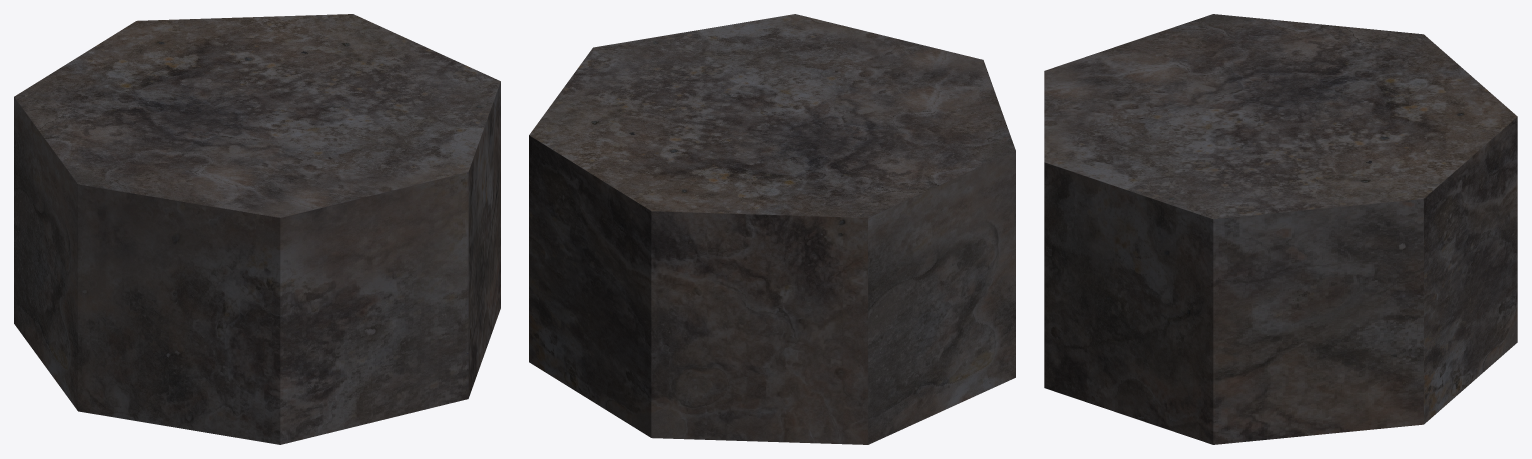
Rendered from rock2.glb.
3 renders of one model, left to right at view 1: azimuth 30°, elevation 25°; view 2: azimuth 150°, elevation 25°; view 3: azimuth 270°, elevation 25°, orthographic.
Parts seen in each view (by area): view 1: Cylinder; view 2: Cylinder; view 3: Cylinder.
Part boxes in pixels (bbox=[...]): Cylinder: bbox=[14, 14, 500, 444]; Cylinder: bbox=[529, 14, 1015, 444]; Cylinder: bbox=[1044, 14, 1517, 444].
Size of the model in its own units: 1.95 by 1 by 1.9.
1 material, 1 textured.
